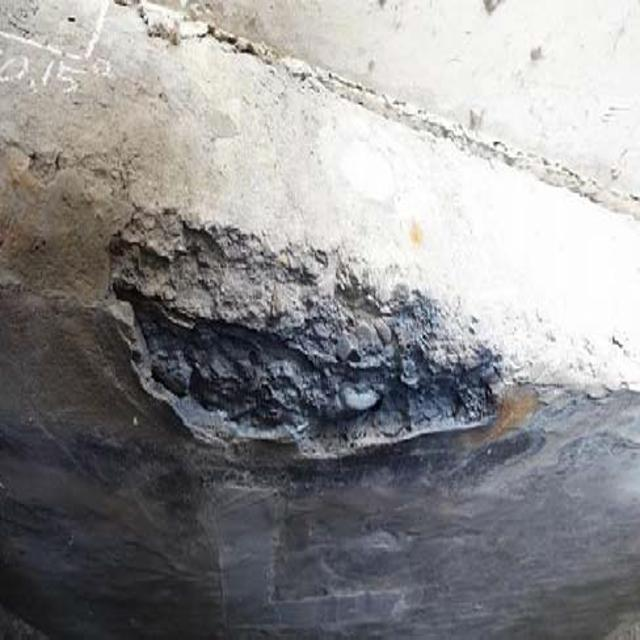spalling: (113, 170, 527, 501)
